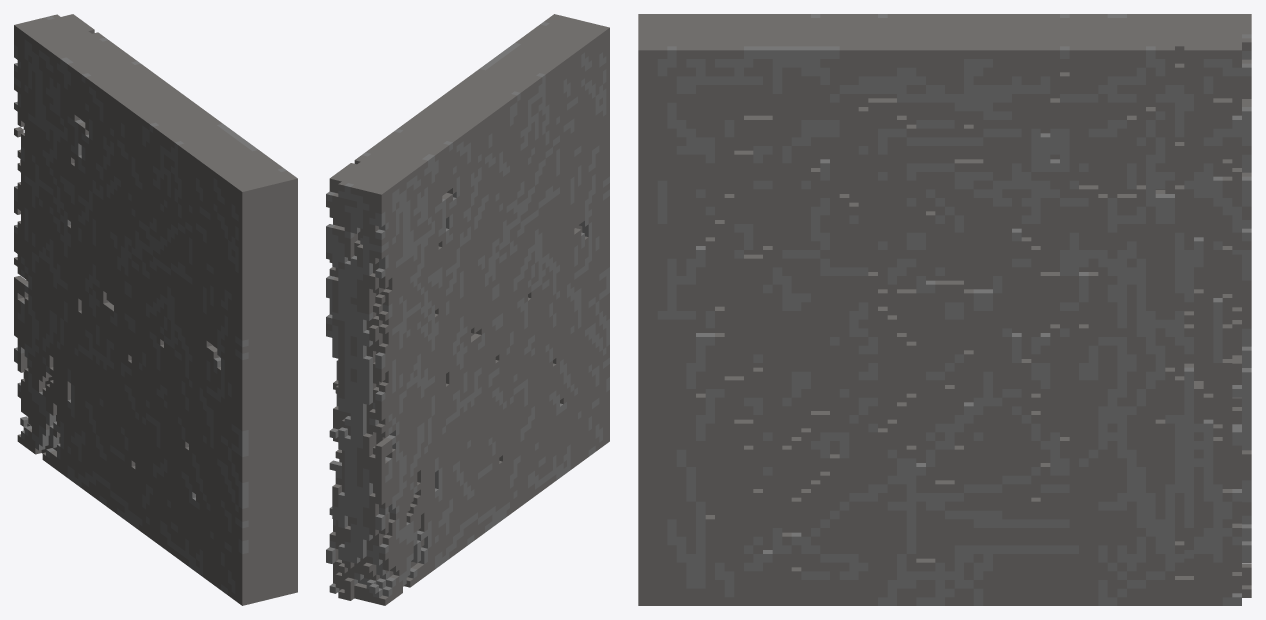
Rendered from MapWIP_v02-27.obj.
The picture shows the model from 3 angles, left to right: view 1: azimuth 30°, elevation 25°; view 2: azimuth 150°, elevation 25°; view 3: azimuth 270°, elevation 25°; orthographic projection. The views are drawn at different scales.
Size of the model in its own units: 0.9 by 6.4 by 6.4.
1 material, 1 textured.
